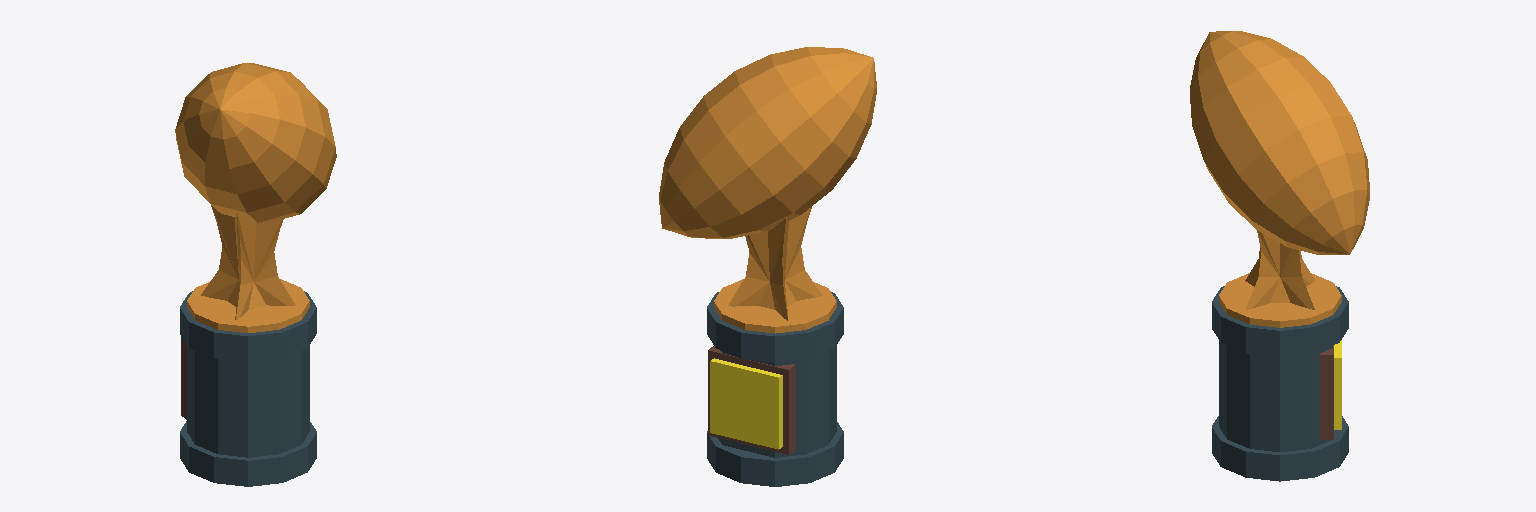
3 views of the same model, side by side, from view 1: azimuth 30°, elevation 25°; view 2: azimuth 150°, elevation 25°; view 3: azimuth 270°, elevation 25° (orthographic).
Visible parts, largest first — view 1: group[number redacted], group[number redacted], group[number redacted], group[number redacted], group[number redacted], group[number redacted]; view 2: group[number redacted], group[number redacted], group[number redacted], group[number redacted], group[number redacted], group[number redacted], group[number redacted], group[number redacted]; view 3: group[number redacted], group[number redacted], group[number redacted], group[number redacted], group[number redacted], group[number redacted], group[number redacted], group[number redacted].
Part boxes in pixels (left/top/right/bottom): group[number redacted]: left=175, top=63, right=336, bottom=222; group[number redacted]: left=187, top=345, right=309, bottom=457; group[number redacted]: left=201, top=205, right=295, bottom=319; group[number redacted]: left=180, top=291, right=316, bottom=362; group[number redacted]: left=180, top=421, right=316, bottom=486; group[number redacted]: left=187, top=279, right=309, bottom=332; group[number redacted]: left=659, top=47, right=876, bottom=238; group[number redacted]: left=710, top=358, right=782, bottom=449; group[number redacted]: left=728, top=207, right=822, bottom=320; group[number redacted]: left=718, top=346, right=836, bottom=457; group[number redacted]: left=707, top=292, right=843, bottom=362; group[number redacted]: left=707, top=422, right=843, bottom=486; group[number redacted]: left=714, top=279, right=836, bottom=333; group[number redacted]: left=708, top=346, right=795, bottom=454; group[number redacted]: left=1190, top=31, right=1369, bottom=254; group[number redacted]: left=1219, top=341, right=1332, bottom=451; group[number redacted]: left=1212, top=286, right=1348, bottom=356; group[number redacted]: left=1212, top=416, right=1348, bottom=481; group[number redacted]: left=1219, top=273, right=1341, bottom=327; group[number redacted]: left=1245, top=230, right=1314, bottom=309; group[number redacted]: left=1320, top=345, right=1333, bottom=439; group[number redacted]: left=1334, top=340, right=1341, bottom=429.
Bounding box in the file's own units: 0.265 × 0.6117 × 0.2505.